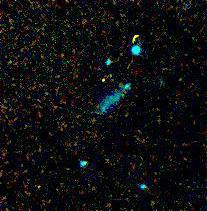star: (89, 68, 119, 98)
